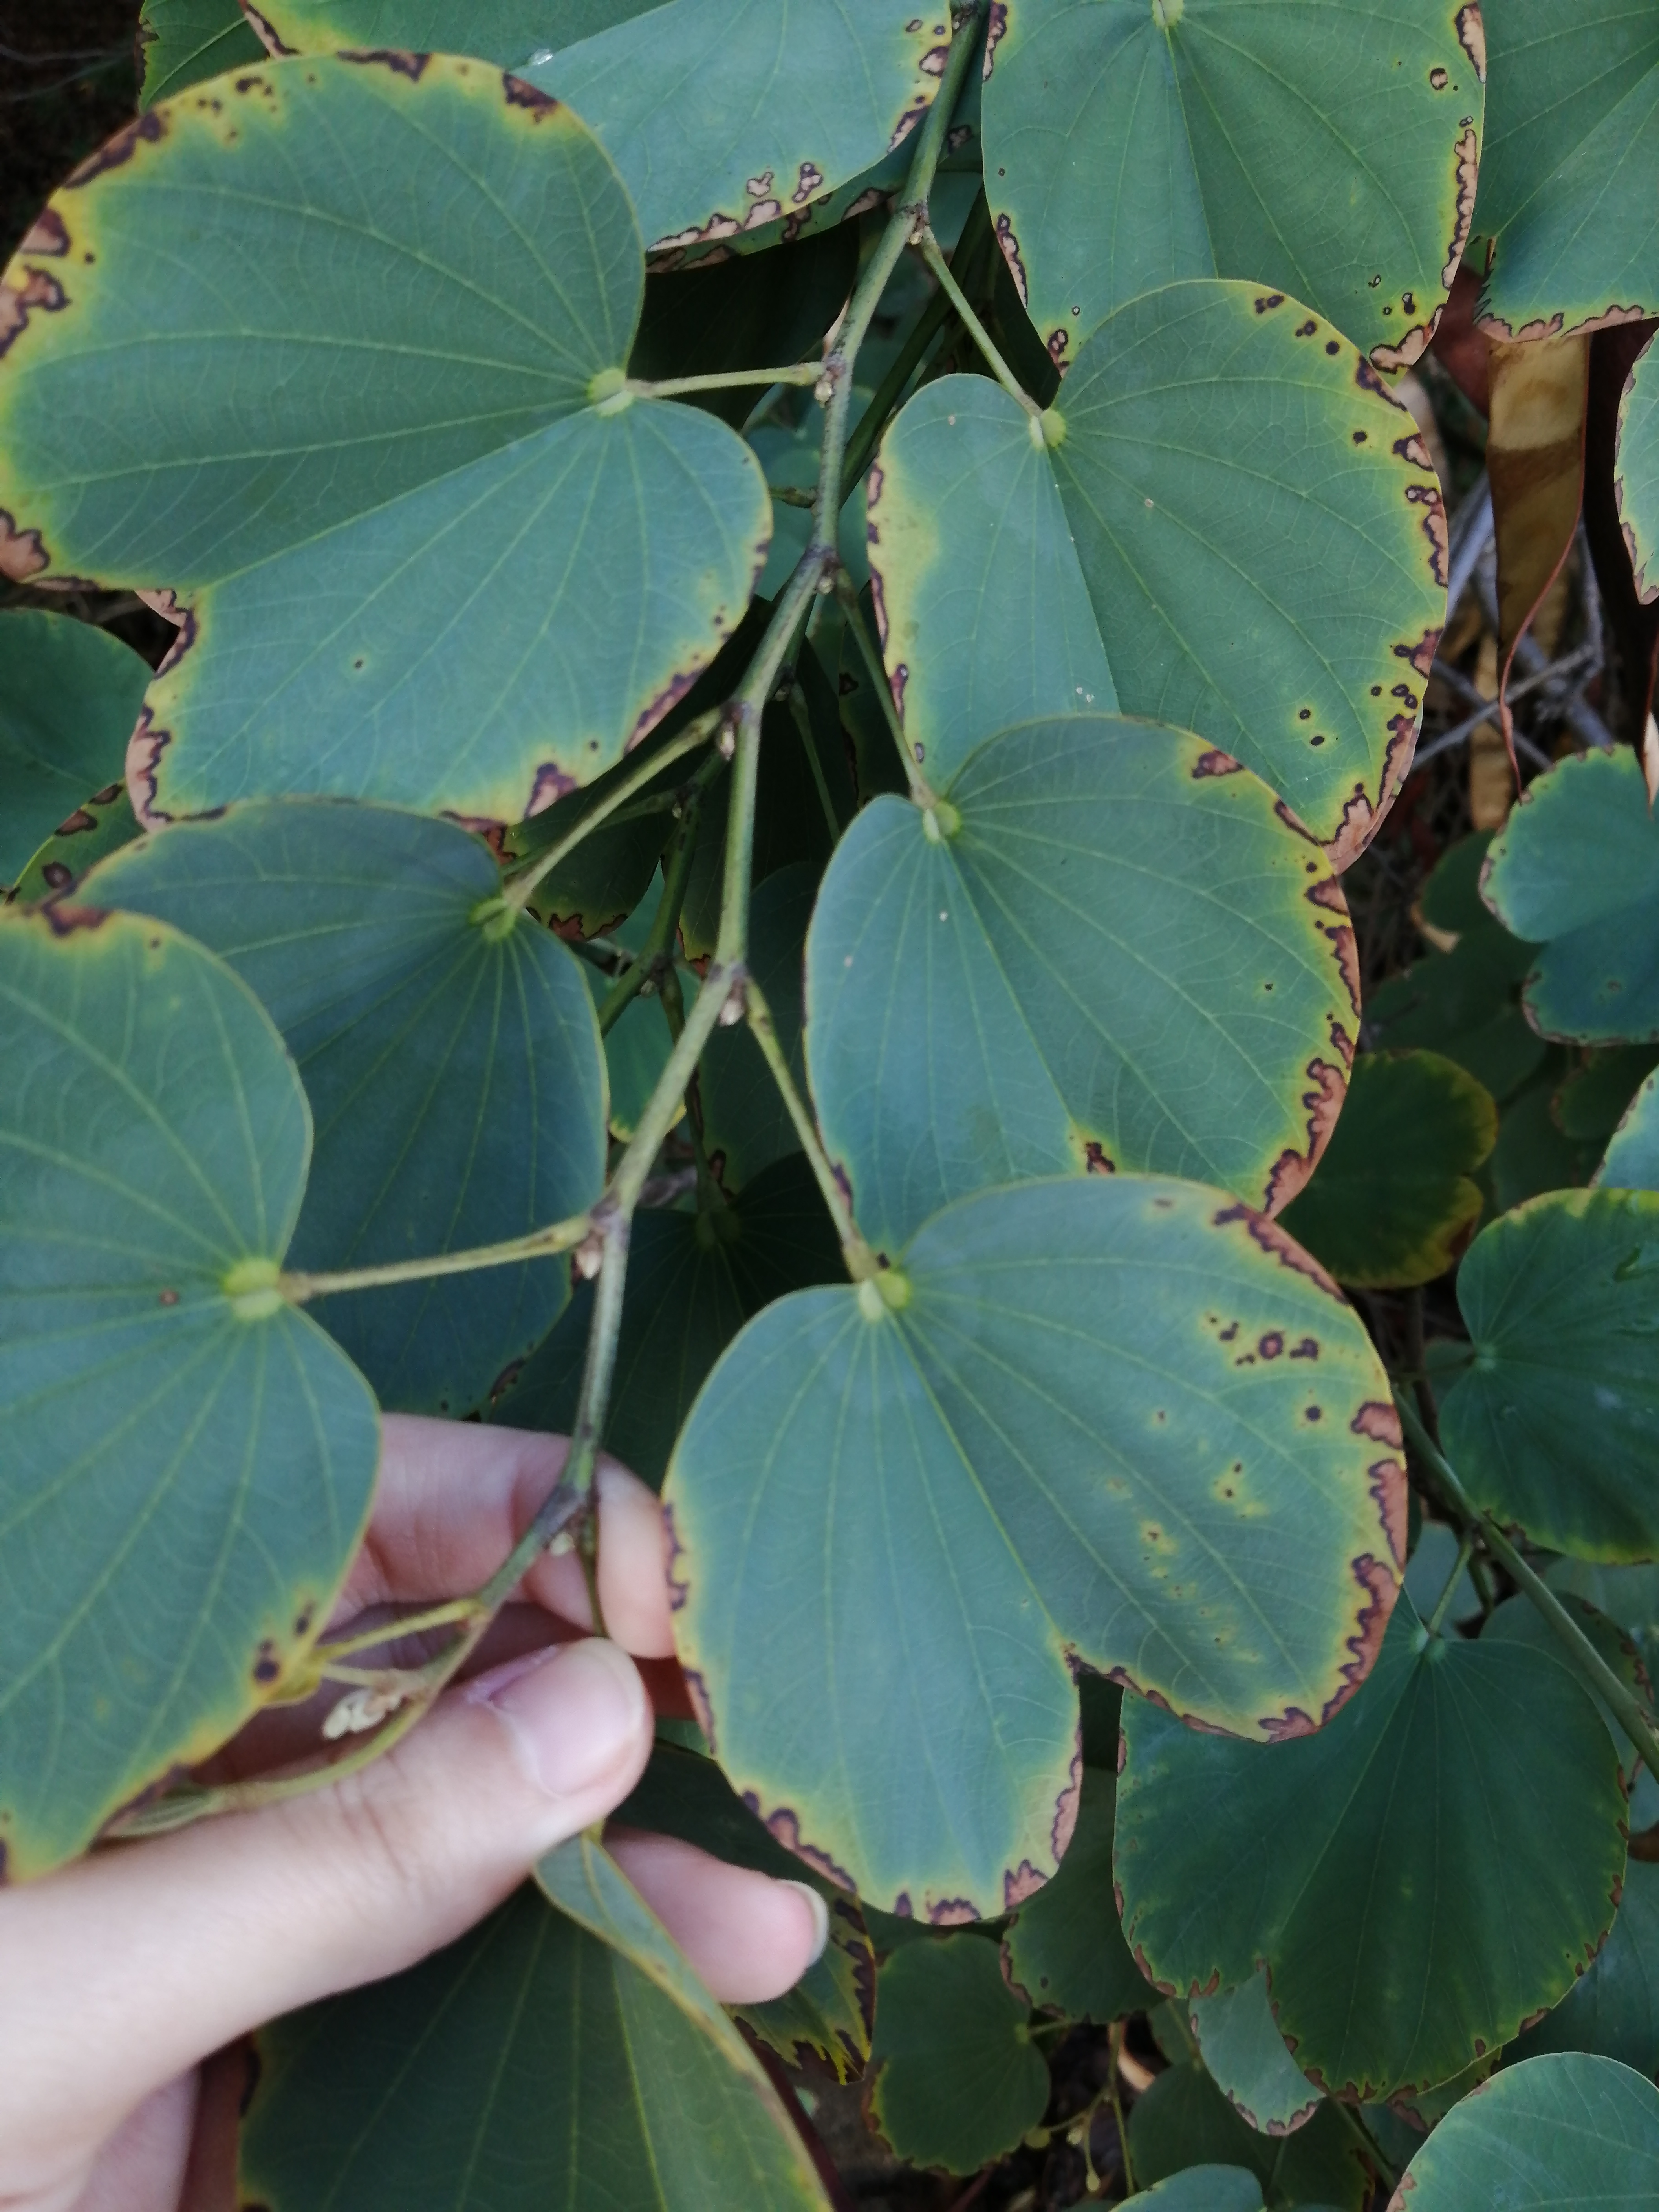nothealthy: (0, 21, 789, 871), (671, 1165, 1392, 1935), (0, 826, 471, 1824), (760, 723, 1420, 1285), (861, 284, 1464, 897), (981, 2, 1537, 416)
